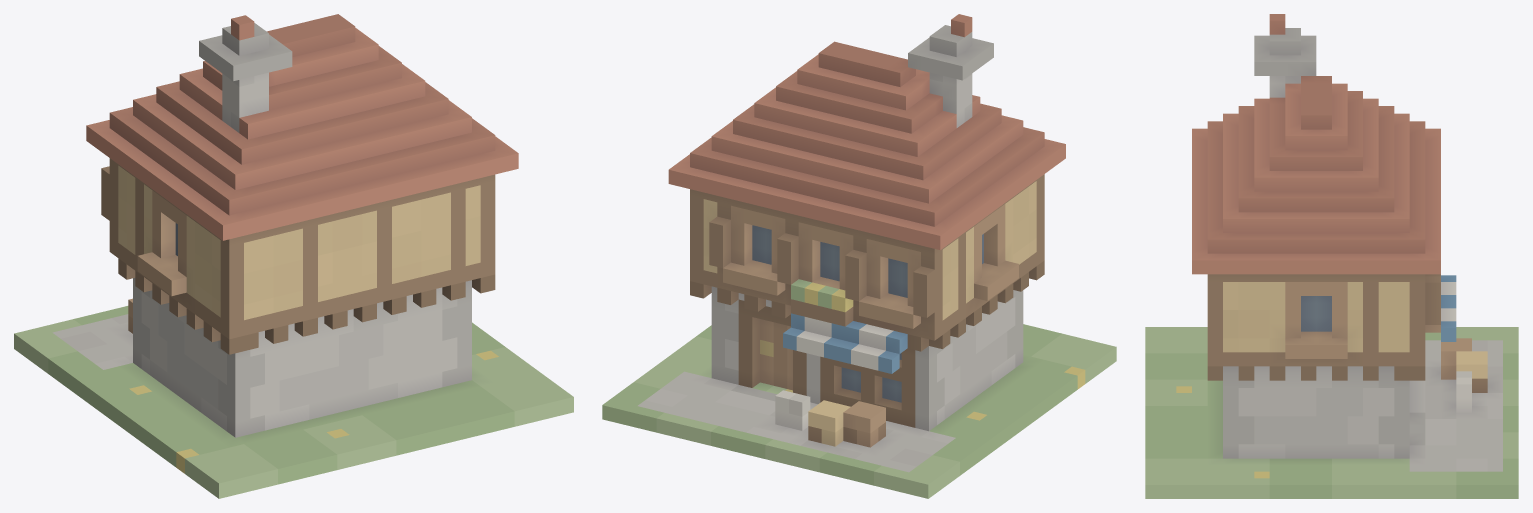
Rendered from house_citizens.v2.glb.
3 renders of one model, left to right at view 1: azimuth 30°, elevation 25°; view 2: azimuth 150°, elevation 25°; view 3: azimuth 270°, elevation 25°, orthographic. The views are drawn at different scales.
Parts seen in each view (by area): view 1: house_citizens; view 2: house_citizens; view 3: house_citizens.
Boxes of the visible parts, x1=… form: house_citizens: x1=14, y1=14, x2=573, y2=498; house_citizens: x1=602, y1=14, x2=1116, y2=498; house_citizens: x1=1145, y1=14, x2=1518, y2=498.
Size of the model in its own units: 3 by 3.25 by 3.
